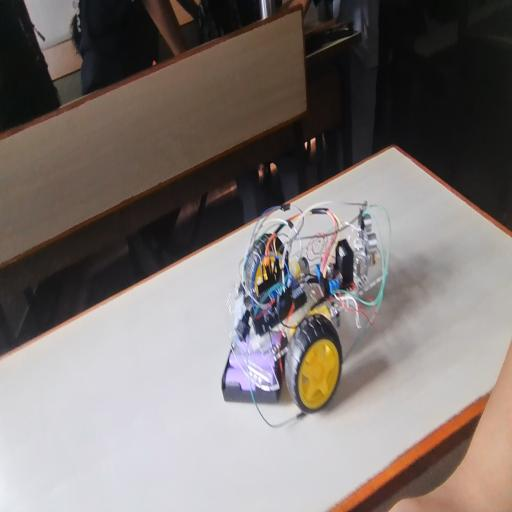car: (222, 188, 407, 391)
